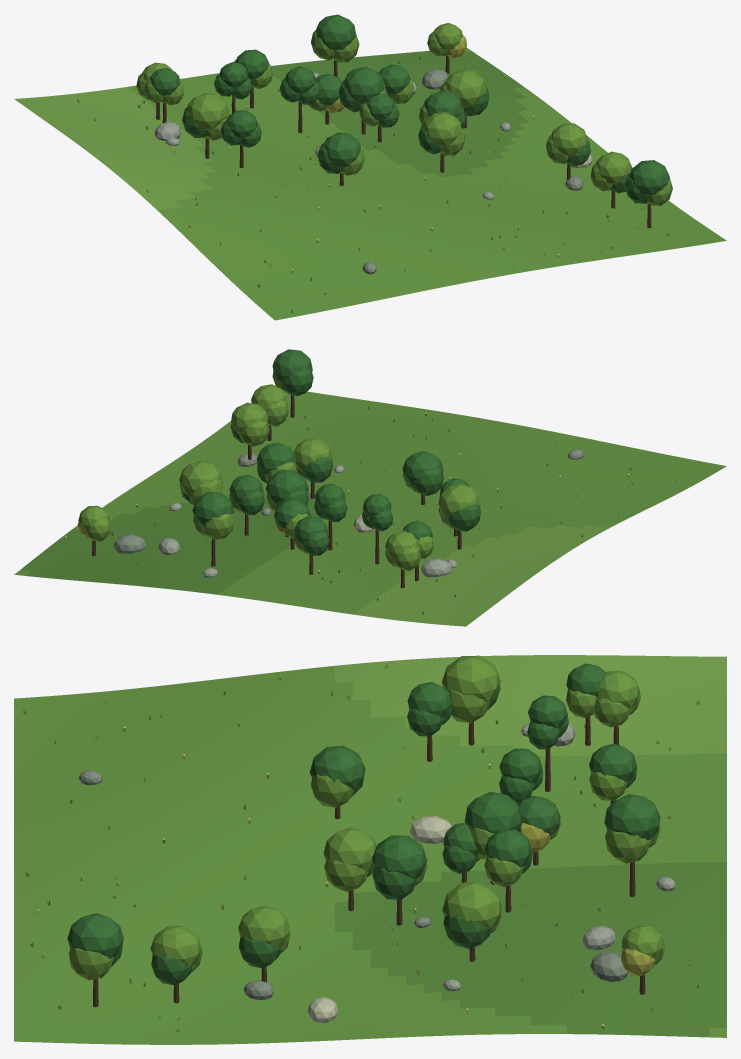
Rendered from Chunk_X-1_Y0_Z-3.fbx.
3 renders of one model, top to bottom at view 1: azimuth 30°, elevation 25°; view 2: azimuth 150°, elevation 25°; view 3: azimuth 270°, elevation 25°, orthographic. The views are drawn at different scales.
Parts seen in each view (by area): view 1: Terrain.014, Canopies.014, Rocks.014, Trunks.014, GroundCover.014; view 2: Terrain.014, Canopies.014, Rocks.014, Trunks.014, GroundCover.014; view 3: Terrain.014, Canopies.014, Rocks.014, Trunks.014, GroundCover.014.
Part boxes in pixels (x1,y1,x2,y2): Terrain.014: (14, 47, 726, 320); Canopies.014: (136, 14, 672, 205); Rocks.014: (154, 69, 592, 274); Trunks.014: (156, 54, 651, 228); GroundCover.014: (77, 56, 668, 313); Terrain.014: (14, 391, 726, 626); Canopies.014: (77, 349, 480, 570); Rocks.014: (114, 449, 583, 577); Trunks.014: (92, 394, 461, 588); GroundCover.014: (64, 403, 702, 614); Terrain.014: (14, 655, 726, 1044); Canopies.014: (67, 655, 665, 985); Rocks.014: (79, 723, 675, 1022); Trunks.014: (93, 716, 645, 1007); GroundCover.014: (23, 663, 699, 1032).
Bounding box in the file's own units: 100 × 23.61 × 100.
